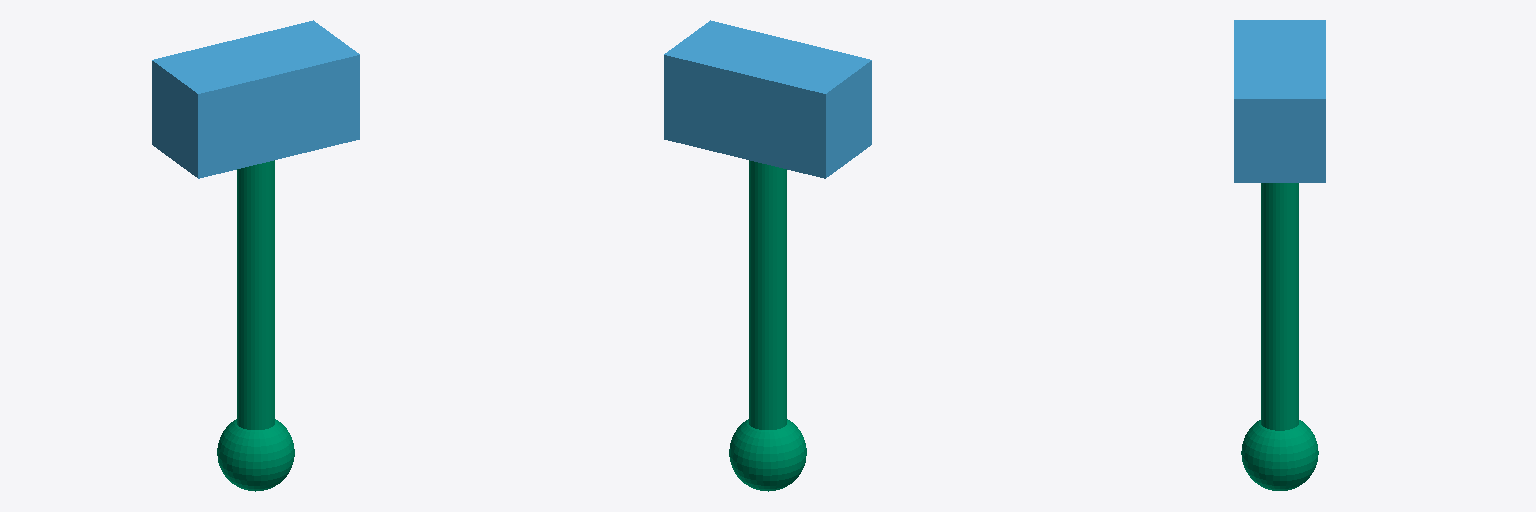
robot.urdf — CartPole:
<?xml version="1.0"?>
<!-- Cart-pole URDF, shared by both the MuJoCo rollout model and the Drake eval
     model (contact_study/tasks/cart_pole.py):
       * Cart  : 10 kg box 0.24 x 0.12 x 0.12
       * Pole  : 1 kg point mass 0.5 m below the cart, 0.5 m rod
       * Slider: prismatic along world +x
       * Pin   : revolute (continuous) about world -y, angle 0 => pole hangs
                 straight down, angle +/-pi => pole upright.

     The "base" link is welded to the world (by MuJoCo's parser automatically;
     by DrakeSimulator's weld_base=True for the eval model), and the cart
     slides relative to it along x. Inertias are tiny (point-mass / no
     rotational DOF participation). -->
<robot name="CartPole">

  <!-- Fixed rail. MuJoCo welds the root link to the world. -->
  <link name="base"/>

  <link name="Cart">
    <inertial>
      <mass value="10.0"/>
      <!-- Cart has no rotational DOF; inertia values do not participate. -->
      <inertia ixx="1e-6" iyy="1e-6" izz="1e-6" ixy="0" ixz="0" iyz="0"/>
    </inertial>
    <visual>
      <geometry><box size="0.24 0.12 0.12"/></geometry>
    </visual>
  </link>

  <link name="Pole">
    <!-- Point mass 0.5 m below the pin (the pin sits at the cart origin). -->
    <inertial>
      <origin xyz="0 0 -0.5"/>
      <mass value="1.0"/>
      <inertia ixx="1e-6" iyy="1e-6" izz="1e-6" ixy="0" ixz="0" iyz="0"/>
    </inertial>
    <visual>
      <origin xyz="0 0 -0.5"/>
      <geometry><sphere radius="0.05"/></geometry>
    </visual>
    <visual>
      <origin xyz="0 0 -0.25"/>
      <geometry><cylinder radius="0.025" length="0.5"/></geometry>
    </visual>
  </link>

  <!-- Cart slides along world +x. Actuated. -->
  <joint name="CartSlider" type="prismatic">
    <parent link="base"/>
    <child link="Cart"/>
    <axis xyz="1 0 0"/>
    <limit effort="100" lower="-10" upper="10" velocity="100"/>
  </joint>

  <!-- Unactuated pin. Continuous so the pole can swing all the way up. -->
  <joint name="PolePin" type="continuous">
    <parent link="Cart"/>
    <child link="Pole"/>
    <axis xyz="0 -1 0"/>
  </joint>

  <transmission name="CartSlider_transmission">
    <type>transmission_interface/SimpleTransmission</type>
    <joint name="CartSlider">
      <hardwareInterface>EffortJointInterface</hardwareInterface>
    </joint>
    <actuator name="CartSlider_motor">
      <hardwareInterface>EffortJointInterface</hardwareInterface>
      <mechanicalReduction>1</mechanicalReduction>
    </actuator>
  </transmission>

</robot>

--- Render facts (derived) ---
3 views of the same robot in one strip: view 1: azimuth 30°, elevation 25°; view 2: azimuth 150°, elevation 25°; view 3: azimuth 270°, elevation 25° (orthographic).
Robot: CartPole — 3 links, 2 joints (1 continuous, 1 prismatic); root link base; default pose: all joints at 0.
Links seen in each view (by area): view 1: Cart, Pole; view 2: Cart, Pole; view 3: Cart, Pole.
Link boxes in pixels (bbox=[...]): Cart: bbox=[152, 20, 359, 178]; Pole: bbox=[217, 160, 294, 491]; Cart: bbox=[664, 20, 871, 178]; Pole: bbox=[729, 160, 806, 491]; Cart: bbox=[1234, 20, 1325, 182]; Pole: bbox=[1241, 183, 1318, 490].
Bounding box of the posed robot: 0.24 × 0.12 × 0.61 m (x, y, z).
Geometry: primitives only (box / cylinder / sphere), no mesh files.
